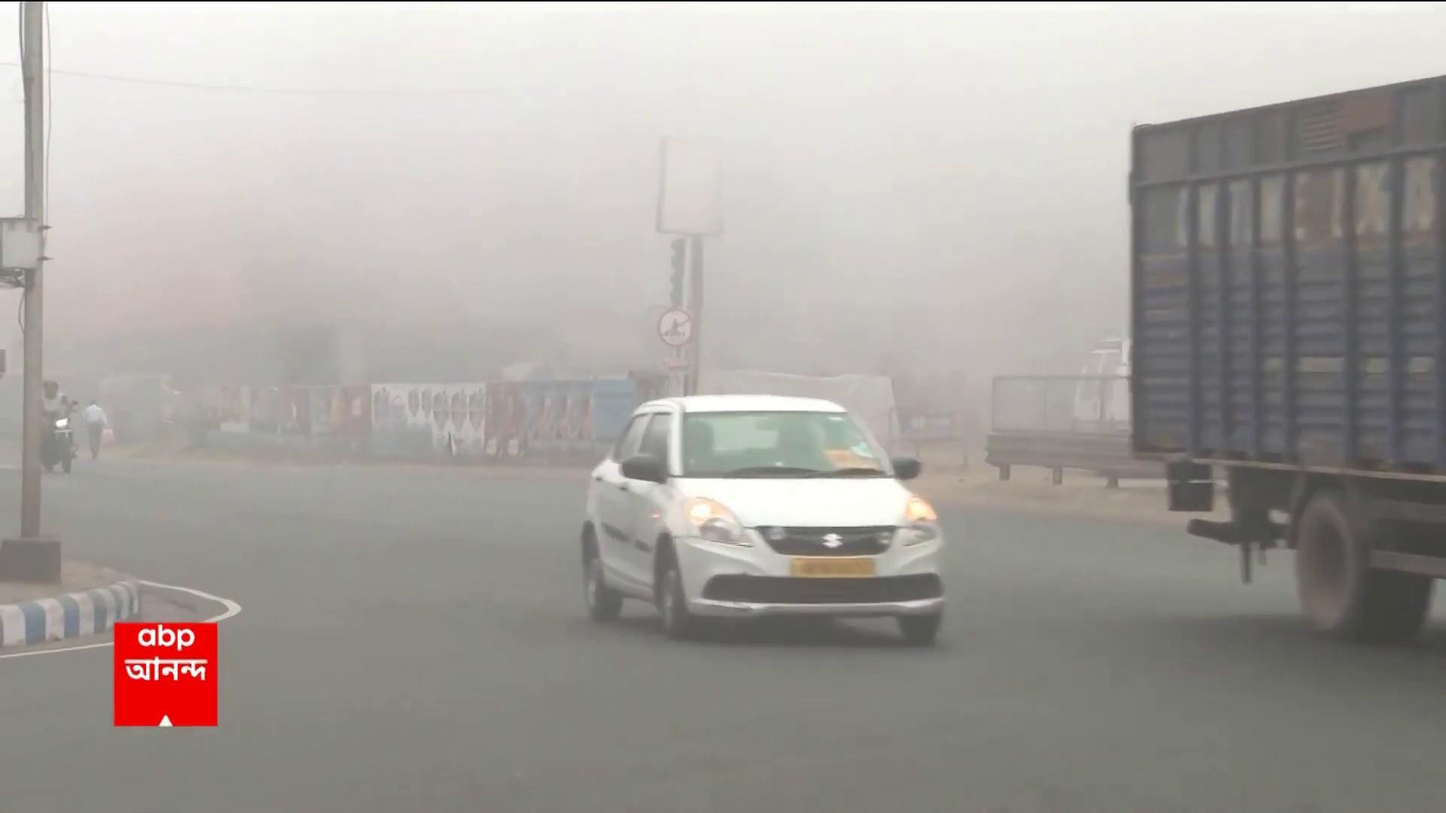Car: (578, 398, 945, 657)
Truck: (1120, 59, 1446, 632)
